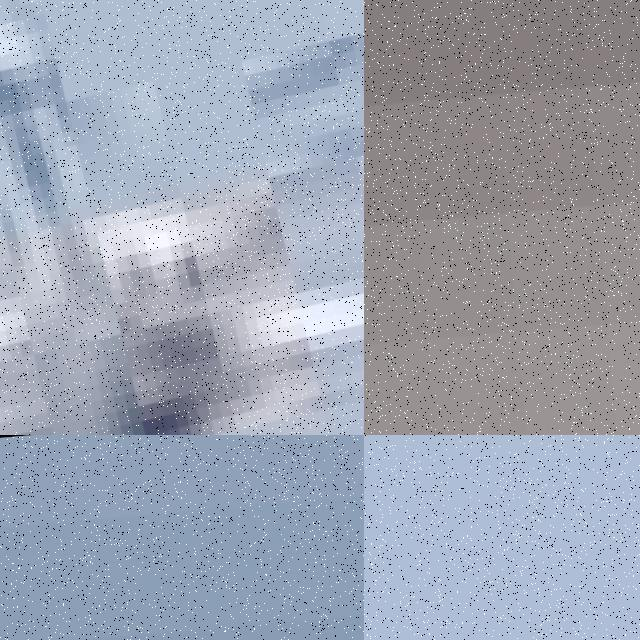drone: (0, 0, 364, 435)
